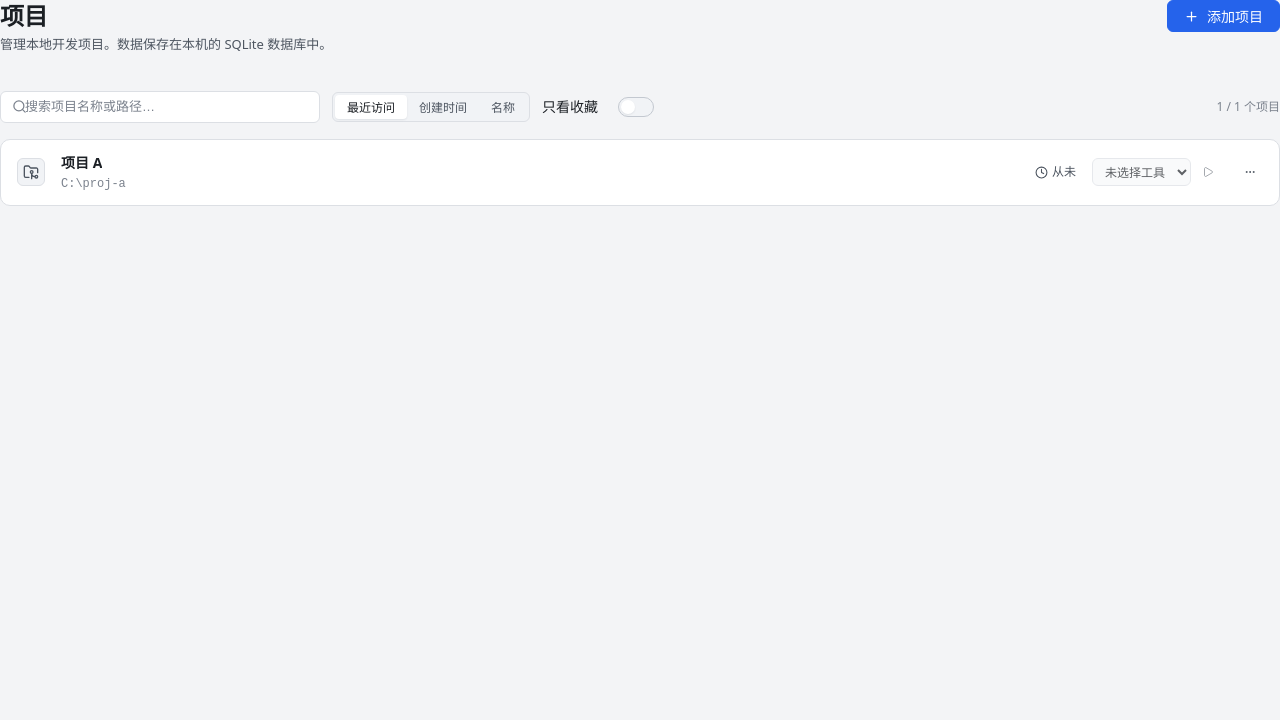
Test: 项目详情：居中模态弹窗 › 点击项目在窗口内打开模态，列表保持挂载在背后
The width and height of the screenshot is (1280, 720).
Click the button with aria-label "查看项目详情：项目 A" at (82, 162), box [61,152,1019,193]
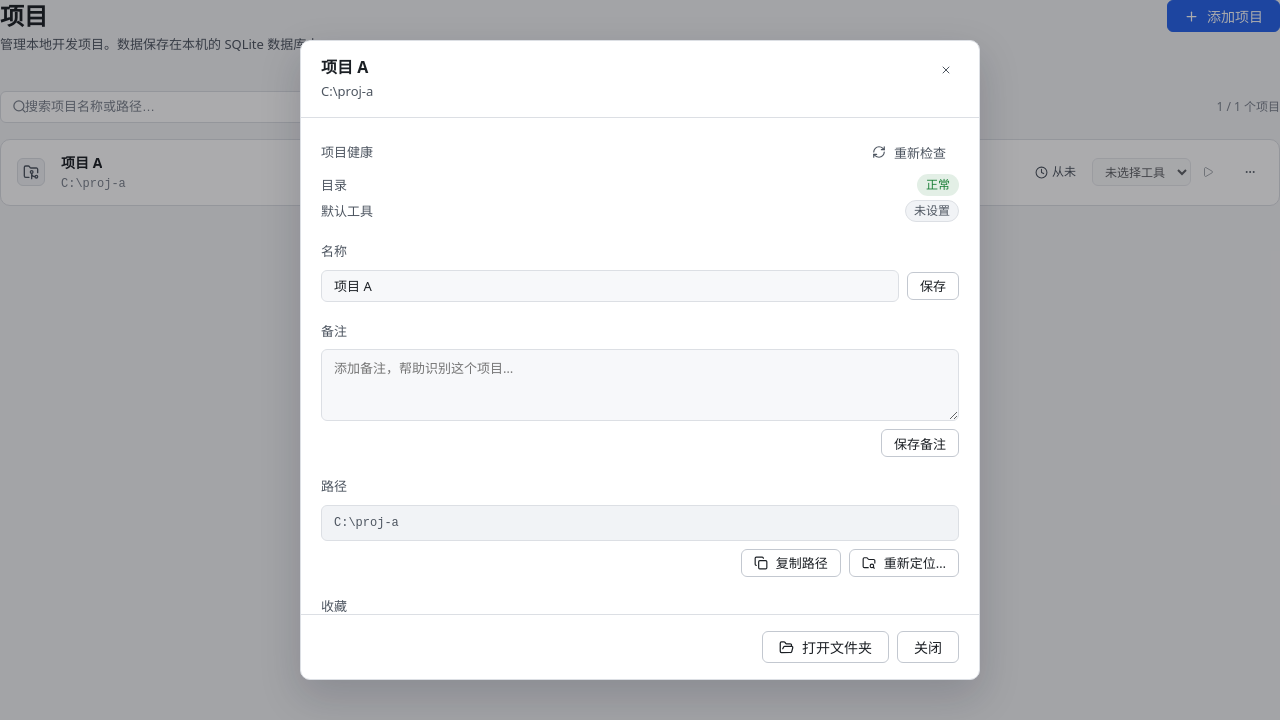
Expected: the search field with placeholder "搜索项目名称或路径…" is shown, [0,91,320,123]
Expected: the heading "项目 A" is shown, [321,57,373,78]
